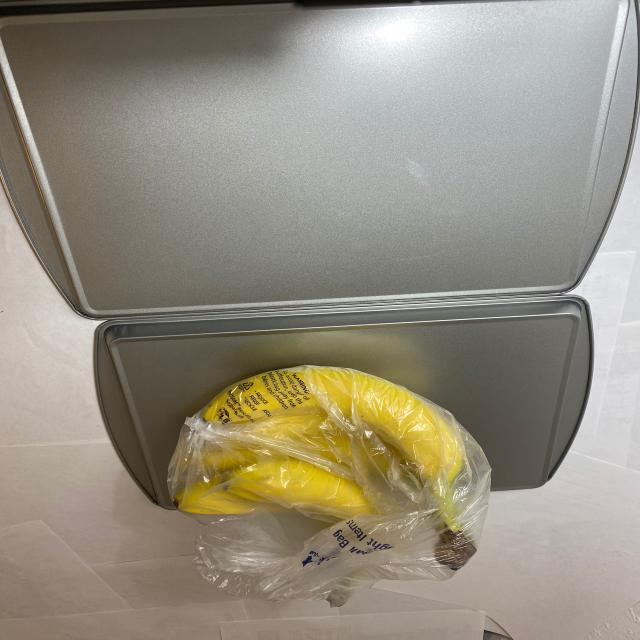banana: (157, 364, 484, 591)
